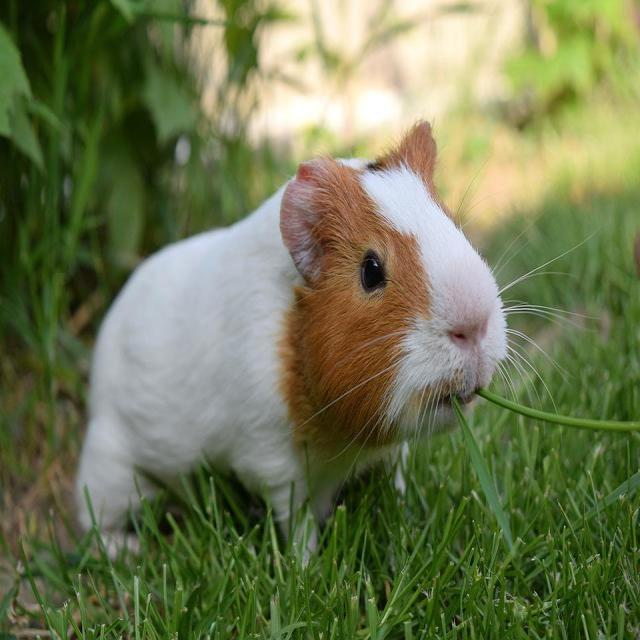guinea pig: (73, 121, 509, 541)
